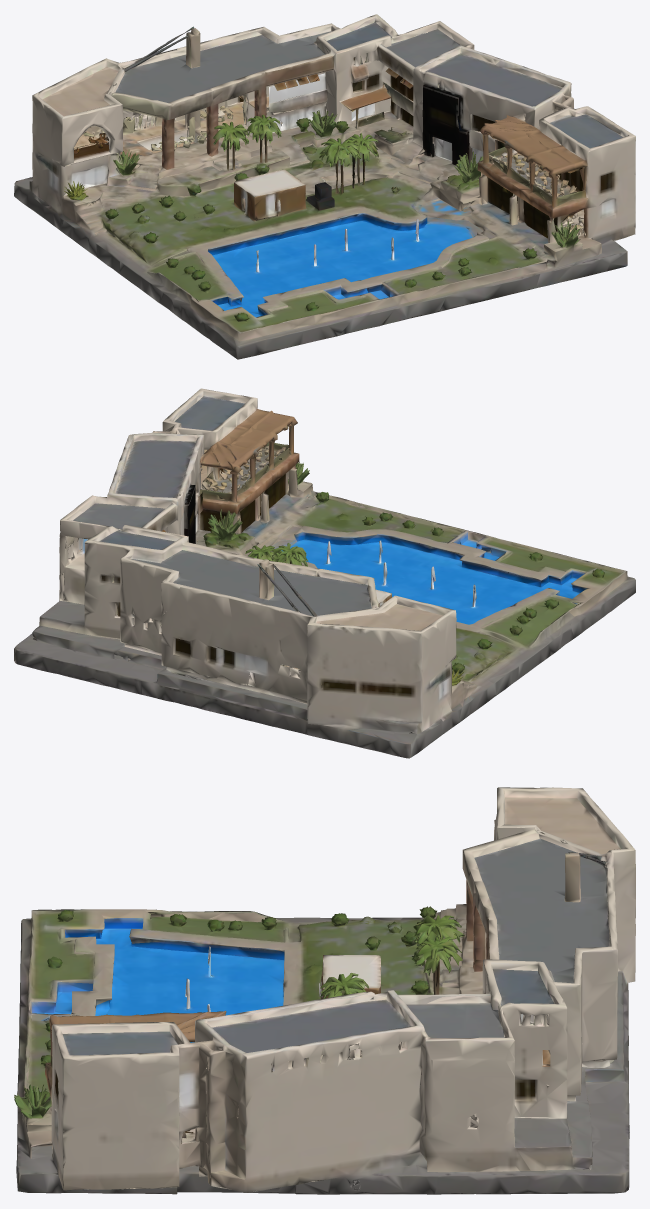
Rendered from tivoli-dome-1.glb.
3 renders of one model, top to bottom at view 1: azimuth 30°, elevation 25°; view 2: azimuth 150°, elevation 25°; view 3: azimuth 270°, elevation 25°, orthographic. The views are drawn at different scales.
Bounding box in the file's own units: 0.9991 × 0.322 × 0.9545.
1 material, 1 textured.
